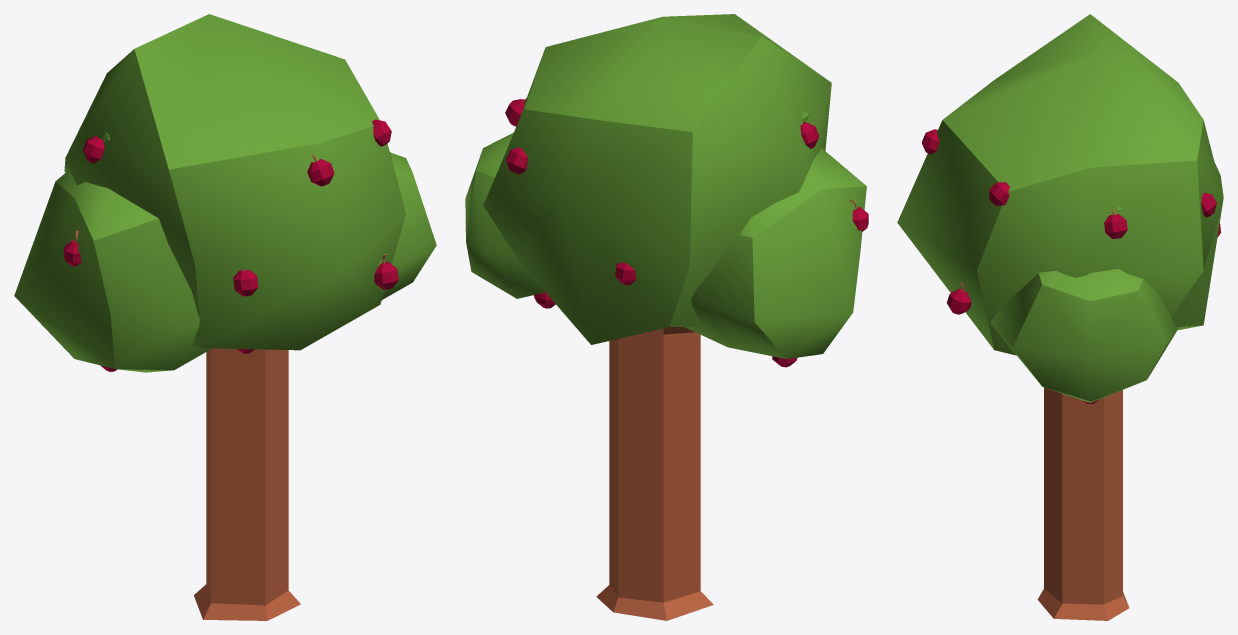
File: appletree.glb
3 views of the same model, side by side, from view 1: azimuth 30°, elevation 25°; view 2: azimuth 150°, elevation 25°; view 3: azimuth 270°, elevation 25° (orthographic). The views are drawn at different scales.
Parts seen in each view (by area): view 1: node-0; view 2: node-0; view 3: node-0.
Part boxes in pixels (<box>): node-0: <box>14,14,436,620</box>; node-0: <box>465,14,868,620</box>; node-0: <box>897,14,1223,620</box>.
Size of the model in its own units: 6.3 by 8.91 by 4.85.
Materials: 1 (1 with a texture image).
